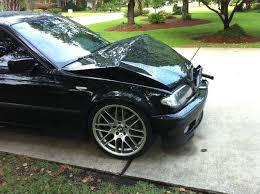bonnet-dent: (79, 31, 173, 86)
fender-dent: (83, 78, 149, 104)
